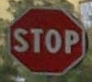stop: (6, 6, 85, 76)
